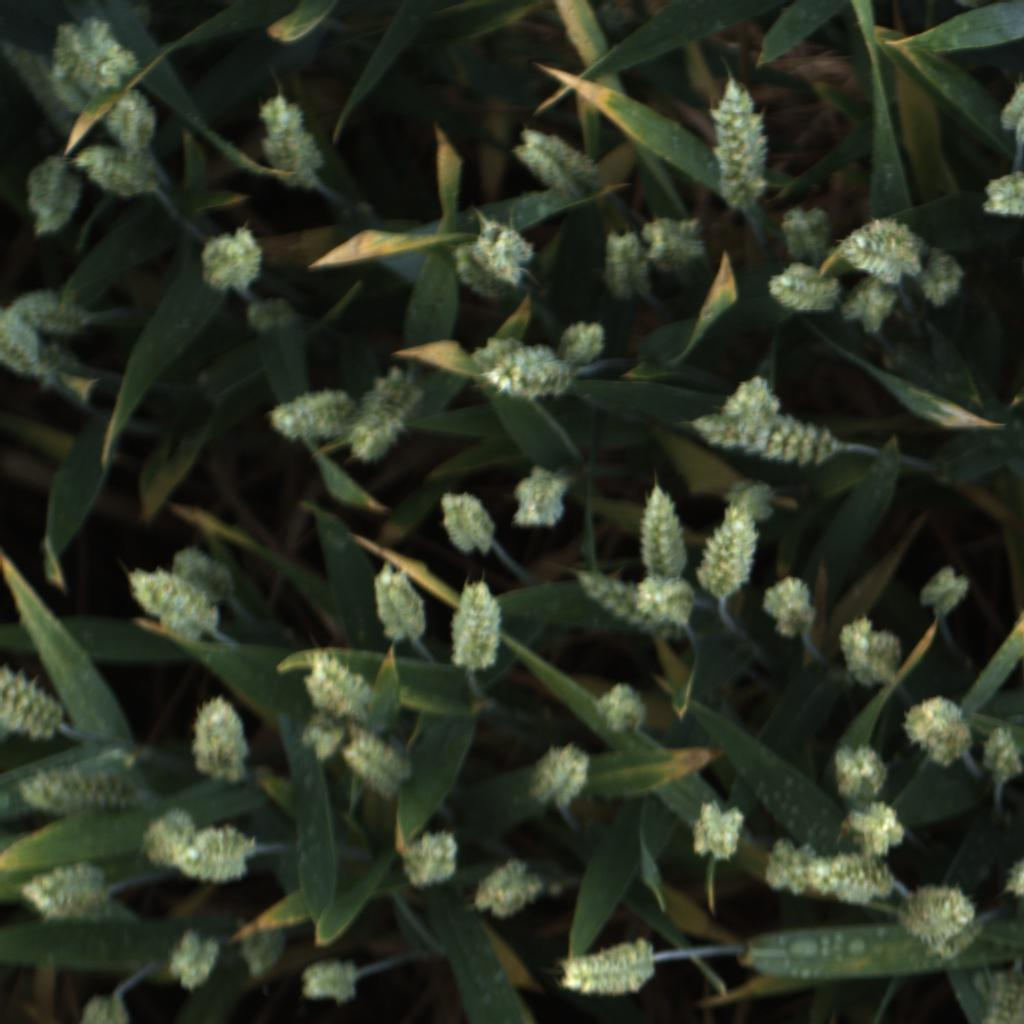0-0: (684, 407, 846, 474), (347, 364, 433, 466), (573, 567, 690, 638), (709, 82, 772, 206), (126, 567, 226, 645), (49, 16, 142, 95), (251, 92, 325, 190), (22, 857, 123, 928), (555, 937, 659, 1004), (696, 501, 761, 599), (362, 564, 436, 650), (481, 341, 576, 405), (837, 212, 925, 281), (22, 762, 132, 817), (342, 720, 415, 802), (888, 879, 976, 946), (832, 614, 908, 691), (187, 695, 253, 783), (900, 696, 979, 769), (74, 139, 167, 201), (633, 480, 691, 579), (301, 649, 375, 726), (522, 740, 592, 817), (799, 850, 894, 906), (468, 852, 543, 922), (449, 581, 506, 673), (0, 665, 66, 743), (178, 822, 259, 885), (269, 387, 359, 443), (0, 304, 59, 388), (194, 223, 265, 292), (20, 157, 81, 237), (507, 125, 588, 185), (473, 219, 537, 288), (756, 571, 818, 641), (447, 241, 518, 301), (161, 925, 223, 993), (842, 797, 910, 859), (761, 263, 840, 316), (14, 282, 97, 332), (436, 488, 497, 556), (913, 245, 973, 314), (397, 826, 460, 891), (641, 214, 707, 275), (686, 797, 746, 863), (508, 464, 568, 529), (167, 544, 236, 600), (776, 202, 837, 264), (840, 275, 901, 337), (603, 226, 652, 303), (634, 570, 694, 631), (106, 88, 161, 154), (44, 57, 104, 117), (762, 838, 821, 899), (142, 804, 198, 868), (591, 678, 649, 739), (829, 744, 892, 799), (916, 562, 973, 621), (717, 371, 785, 420), (969, 963, 1022, 1023), (298, 959, 357, 1010), (236, 922, 287, 981), (977, 723, 1024, 787), (298, 711, 348, 767), (926, 916, 985, 961), (245, 290, 297, 338), (469, 335, 531, 375), (724, 476, 775, 523), (559, 317, 606, 367), (980, 171, 1024, 224), (996, 63, 1024, 146), (62, 998, 130, 1024), (1002, 856, 1024, 901)
